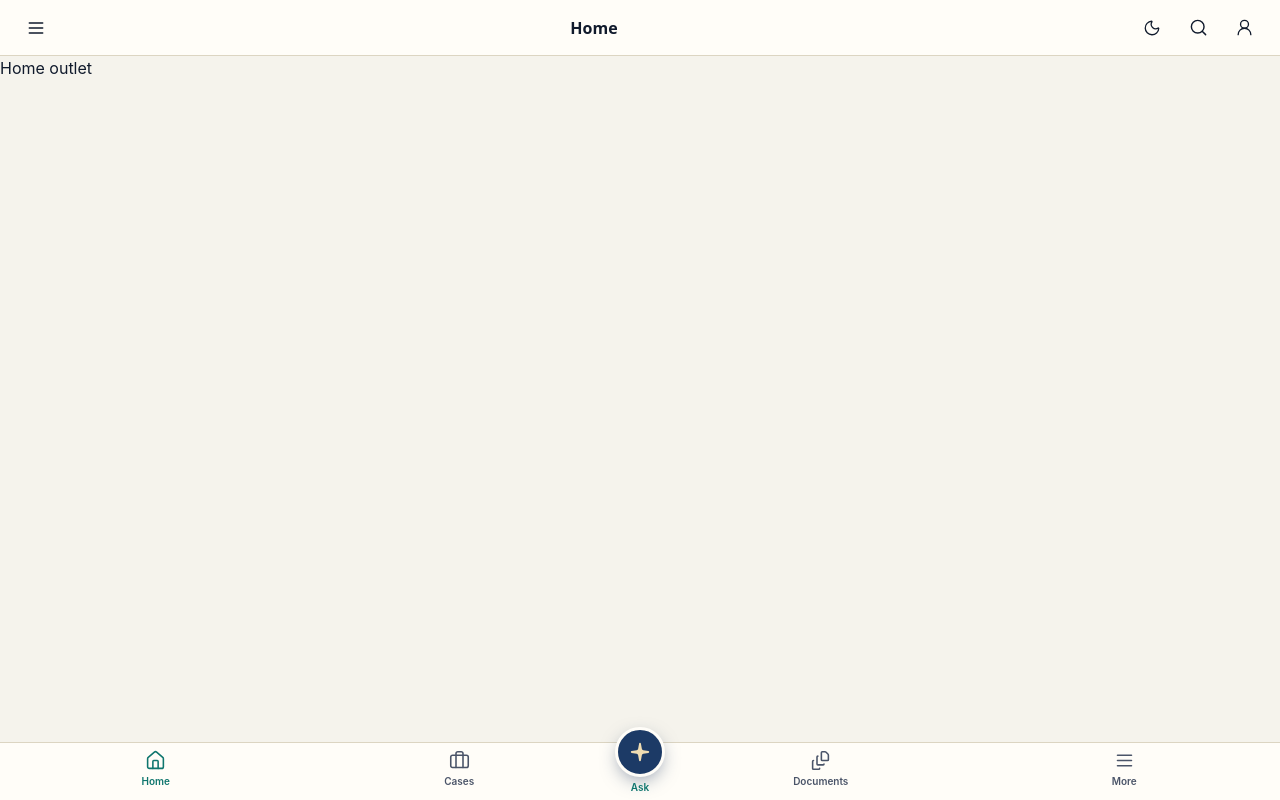
Test: AppShell › closes the mobile drawer when the scrim is clicked
Click the button named "Open menu": [36, 28] box top-left (14, 6), bottom-right (58, 50)
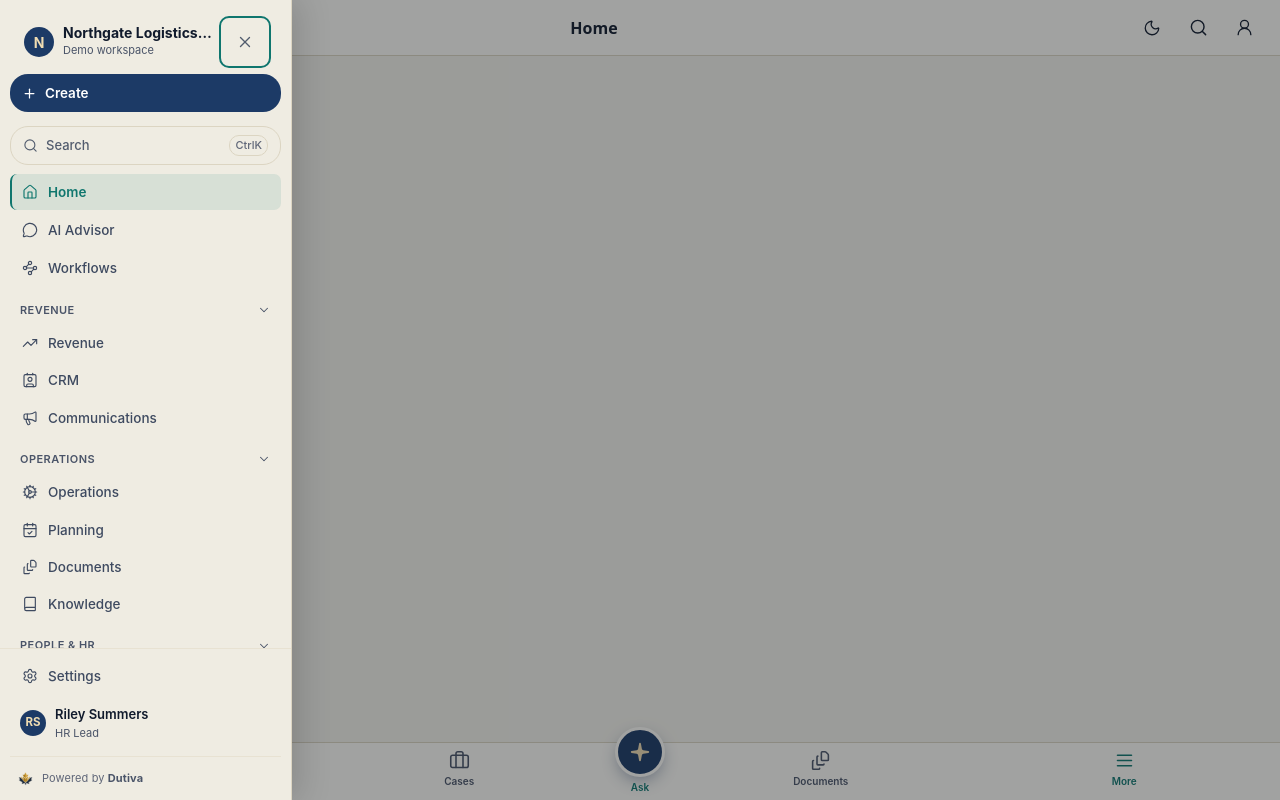
expect the button "More" is expanded: met, box top-left (972, 743), bottom-right (1276, 795)
expect the element with class "z-60" is shown: met
Click the element with class "z-60": [640, 400] box top-left (0, 0), bottom-right (1279, 799)
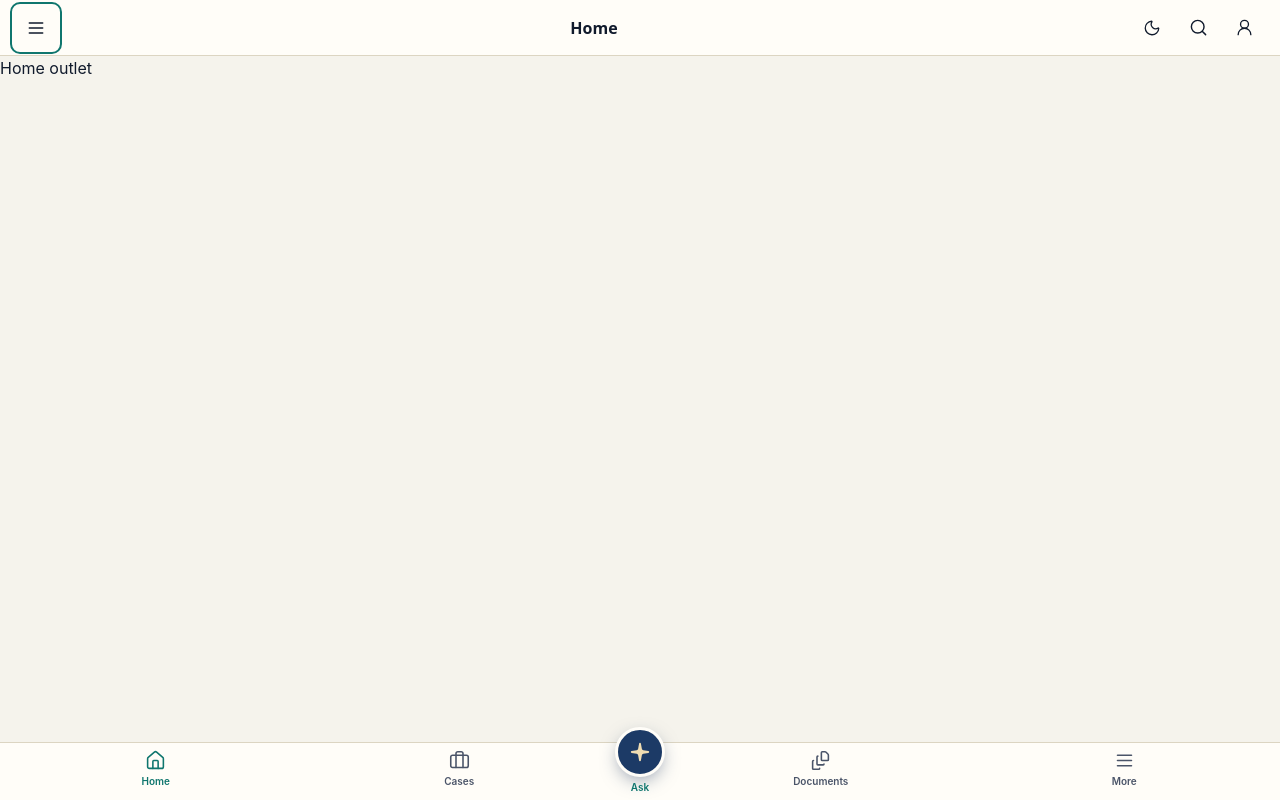
expect the button "More" is collapsed: met, box top-left (972, 743), bottom-right (1276, 795)
